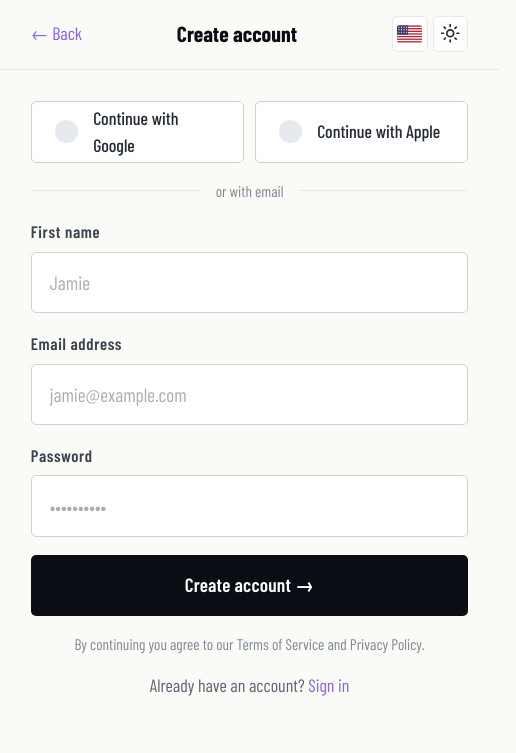
Test case: SignUp › rejects empty submit
Click the button "Create account →" at (250, 586), box [31,555,468,616]
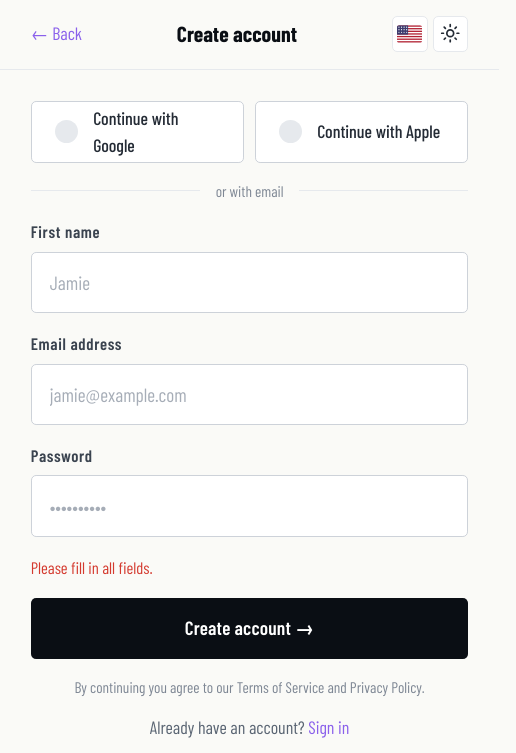
Result: the text "Please fill in all fields." is shown at [31,557,153,577]
